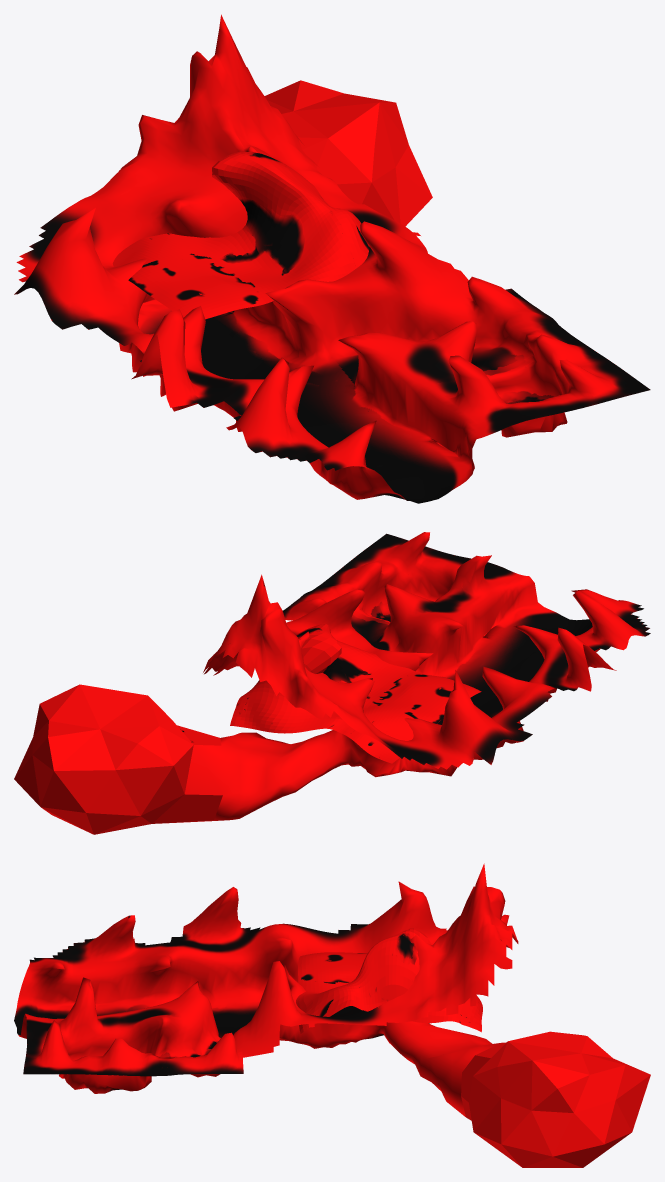
The model's file is map.glb.
3 renders of one model, top to bottom at view 1: azimuth 30°, elevation 25°; view 2: azimuth 150°, elevation 25°; view 3: azimuth 270°, elevation 25°, orthographic. The views are drawn at different scales.
Visible parts, largest first — view 1: Landscape.003, Plane; view 2: Landscape.003, Plane; view 3: Landscape.003, Plane.
Part boxes in pixels (x1,y1,x2,y2): Landscape.003: (14, 14, 650, 503); Plane: (112, 151, 369, 319); Landscape.003: (14, 532, 650, 834); Plane: (230, 624, 481, 763); Landscape.003: (14, 863, 650, 1167); Plane: (296, 928, 482, 1033).
Size of the model in its own units: 500 by 291 by 725.
Materials: 1 (1 with a texture image).
